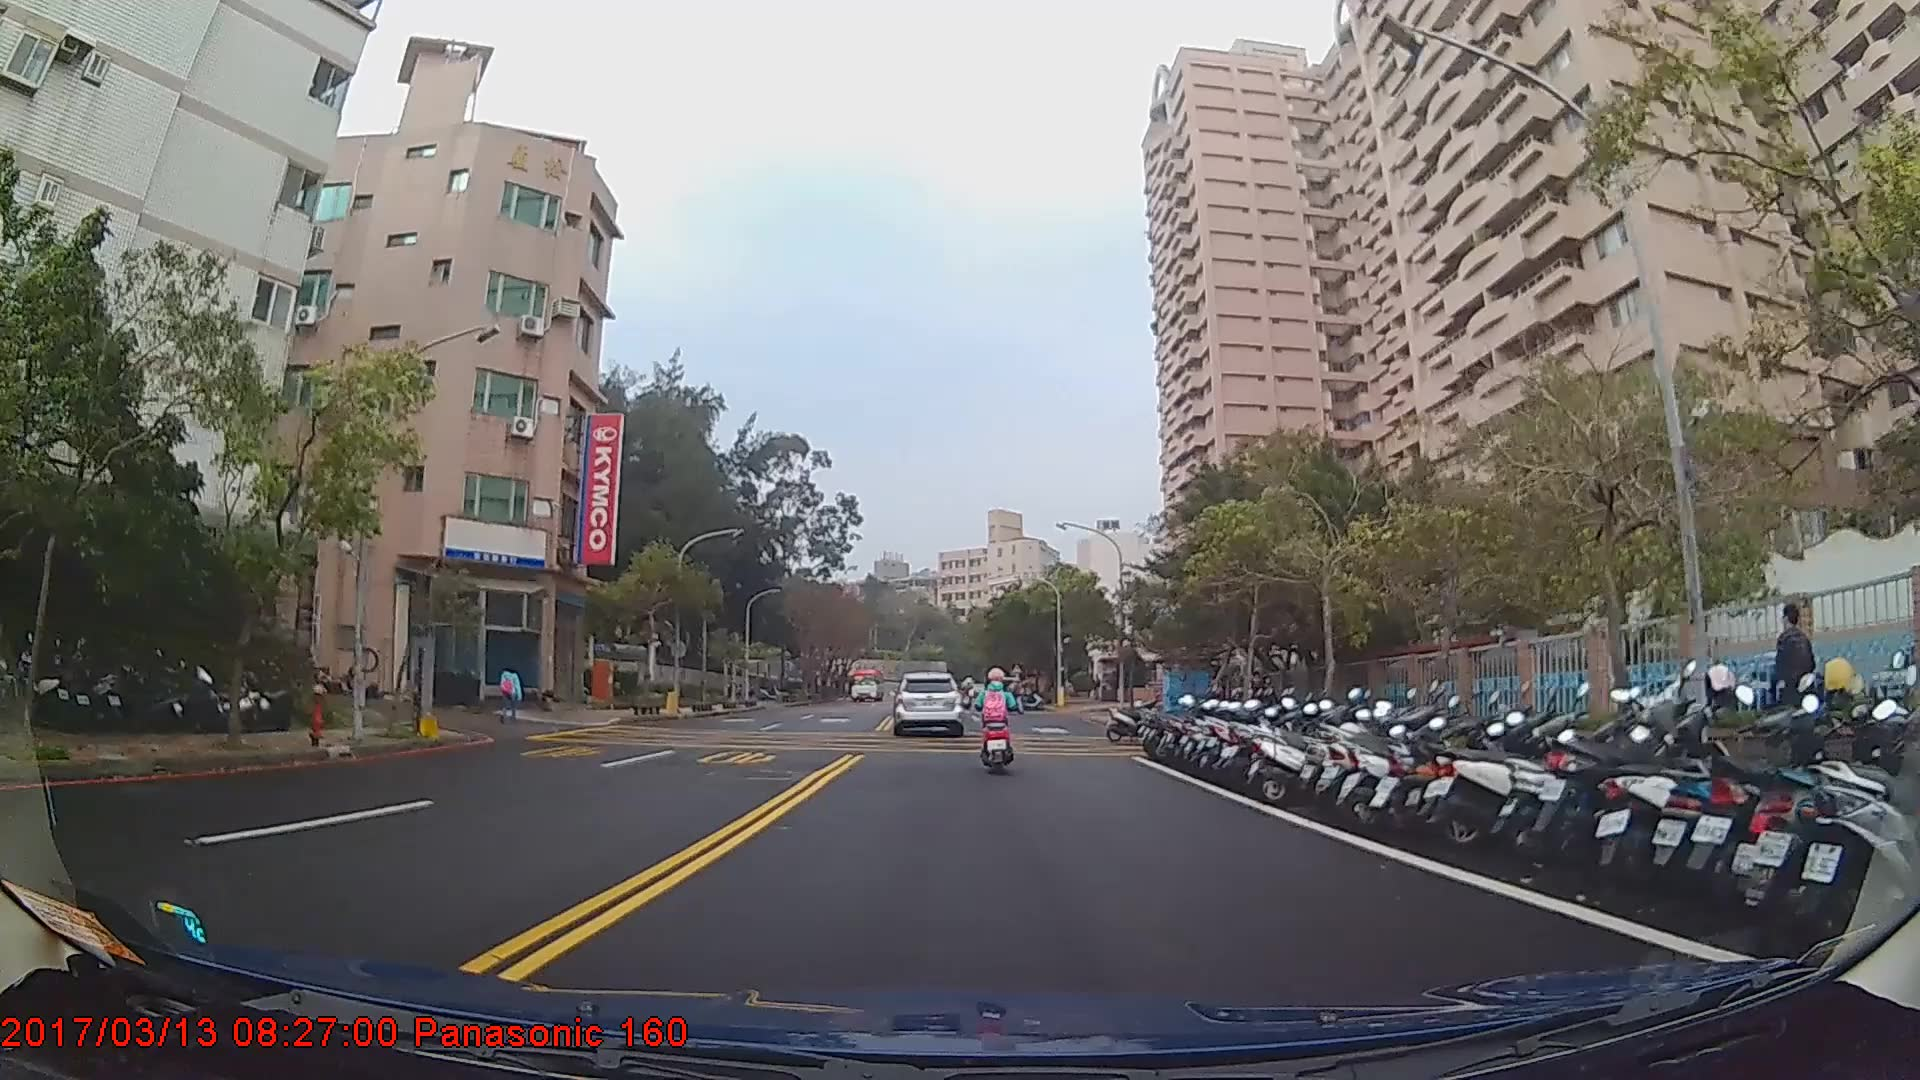pedestrian: (1768, 600, 1825, 772), (499, 658, 524, 724)
rider: (971, 664, 1020, 776)
vehicle: (893, 671, 965, 736), (846, 667, 884, 703)
